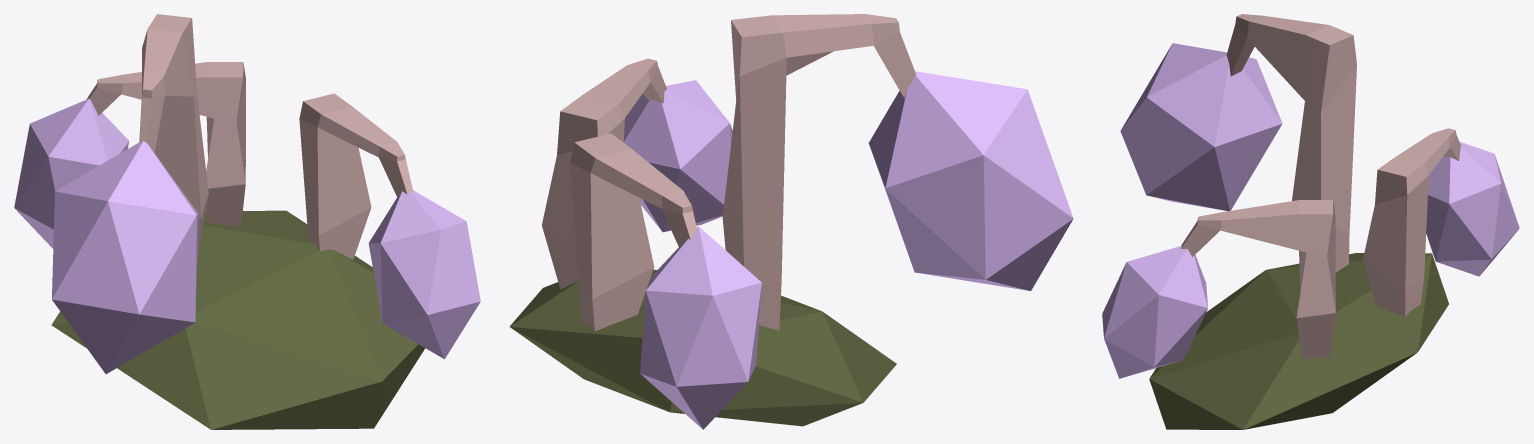
The model's file is ヒース.fbx.
3 views of the same model, side by side, from view 1: azimuth 30°, elevation 25°; view 2: azimuth 150°, elevation 25°; view 3: azimuth 270°, elevation 25° (orthographic). The views are drawn at different scales.
Visible parts, largest first — view 1: ICO球.003, ICO球.002, 円柱.001; view 2: ICO球.003, 円柱.001, ICO球.002; view 3: ICO球.003, 円柱.001, ICO球.002.
Part boxes in pixels (box(x1,y1,x2,y2)): ICO球.003: box(14, 98, 480, 373); ICO球.002: box(51, 210, 425, 429); 円柱.001: box(86, 14, 413, 259); ICO球.003: box(624, 71, 1073, 429); 円柱.001: box(542, 14, 916, 331); ICO球.002: box(509, 269, 896, 426); ICO球.003: box(1102, 43, 1519, 378); 円柱.001: box(1181, 14, 1461, 358); ICO球.002: box(1149, 253, 1448, 429).
Bounding box in the file's own units: 82.17 × 68.34 × 75.61.
